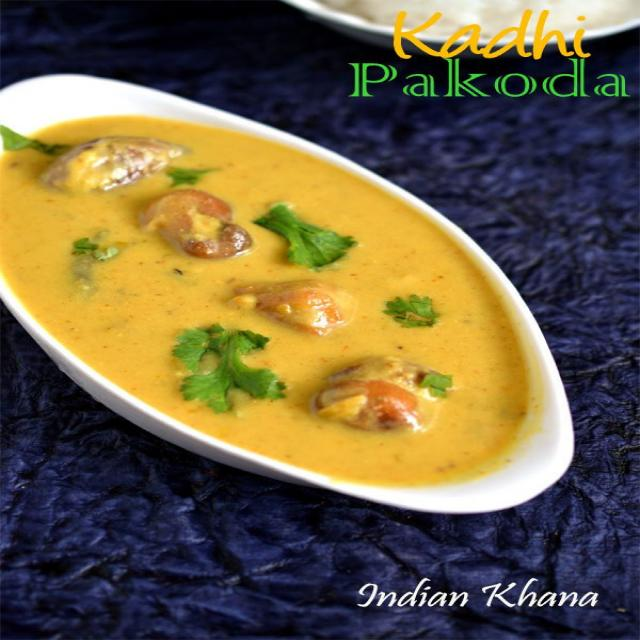Kadhi Pakora: (1, 116, 545, 493)
